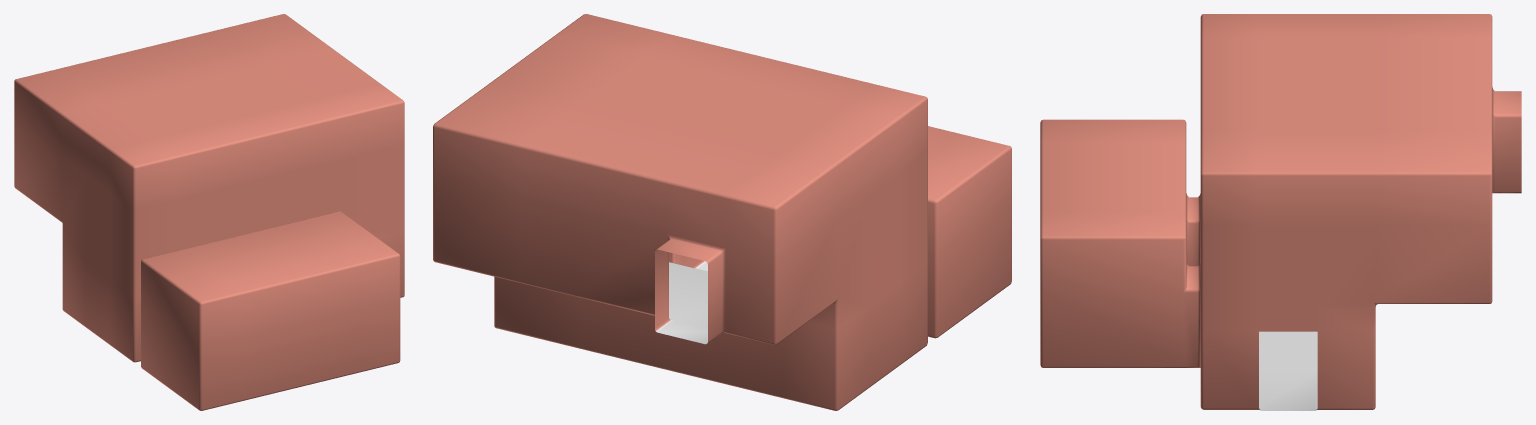
Rendered from Levels03.fbx.
The picture shows the model from 3 angles, left to right: view 1: azimuth 30°, elevation 25°; view 2: azimuth 150°, elevation 25°; view 3: azimuth 270°, elevation 25°; orthographic projection. The views are drawn at different scales.
Visible parts, largest first — view 1: Rooms.003; view 2: Rooms.003; view 3: Rooms.003.
Part boxes in pixels (<box>): Rooms.003: <box>14,14,404,410</box>; Rooms.003: <box>433,14,1011,410</box>; Rooms.003: <box>1040,14,1521,410</box>.
Bounding box in the file's own units: 13.01 × 9 × 16.5.
